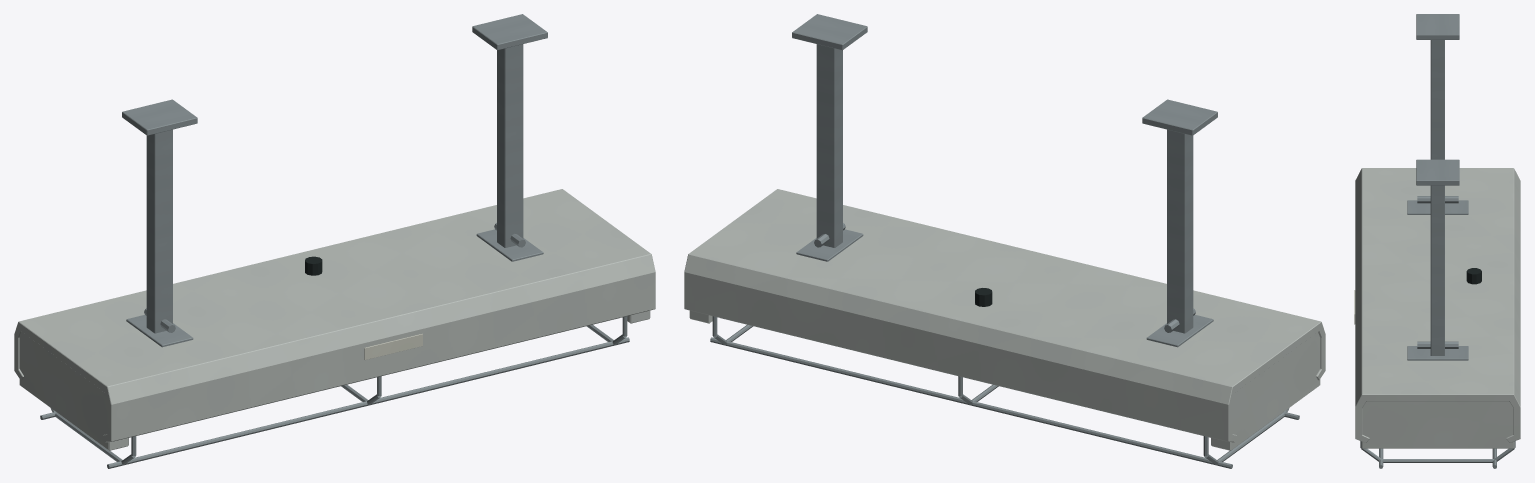
The model's file is AST-STF-006.glb.
The picture shows the model from 3 angles, left to right: view 1: azimuth 30°, elevation 25°; view 2: azimuth 150°, elevation 25°; view 3: azimuth 270°, elevation 25°; orthographic projection. The views are drawn at different scales.
Parts seen in each view (by area): view 1: AST-STF-006__staff_white_paint, AST-STF-006__staff_zinc, AST-STF-006__staff_label; view 2: AST-STF-006__staff_white_paint, AST-STF-006__staff_zinc; view 3: AST-STF-006__staff_white_paint, AST-STF-006__staff_zinc, AST-STF-006__staff_rubber.
Boxes of the visible parts, bbox=[...] form: AST-STF-006__staff_white_paint: bbox=[14, 189, 655, 450]; AST-STF-006__staff_zinc: bbox=[40, 14, 629, 468]; AST-STF-006__staff_label: bbox=[364, 333, 422, 359]; AST-STF-006__staff_white_paint: bbox=[684, 189, 1325, 450]; AST-STF-006__staff_zinc: bbox=[710, 14, 1299, 468]; AST-STF-006__staff_white_paint: bbox=[1355, 168, 1520, 448]; AST-STF-006__staff_zinc: bbox=[1360, 14, 1515, 468]; AST-STF-006__staff_rubber: bbox=[1466, 268, 1481, 284].
Size of the model in its own units: 1.12 by 0.6075 by 0.348.
5 materials, 5 textured.
